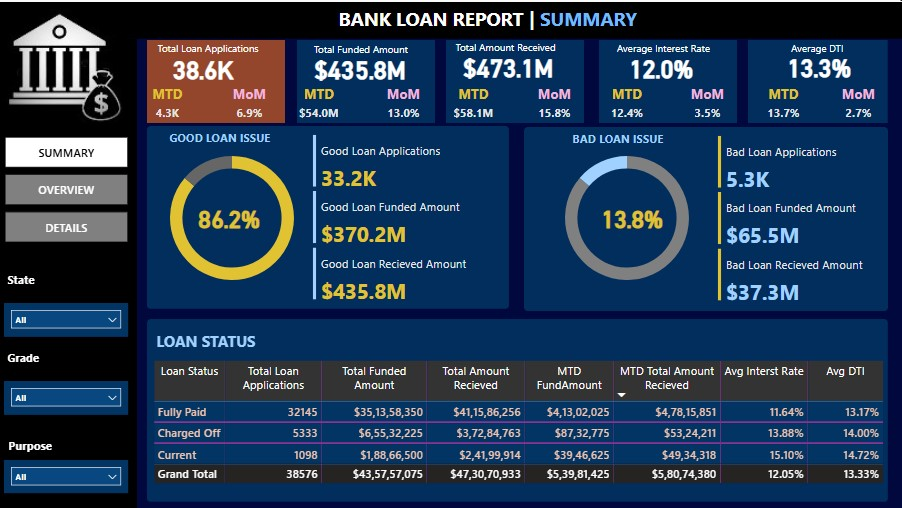

The page's visual inventory and layout, read from the dashboard file:
{"tool":"powerbi","page":{"name":"SUMMARY","canvas":[1280,720],"ordinal":0},"visuals":[{"type":"shape","box":[0,2.8,1279.8,52.4],"z":0},{"type":"shape","box":[0,52.4,195.6,667.6],"z":1000},{"type":"textbox","box":[476.2,0,459.2,48.2],"z":2000},{"type":"shape","box":[209.8,53.9,195.6,117.6],"z":3000},{"type":"card","fields":{"Values":["Bank_loan_data.Total Loan Applications"]},"box":[191.3,68,195.6,52.4],"z":4000},{"type":"textbox","box":[219.7,51,177.2,31.2],"z":5000},{"type":"card","title":"MTD","fields":{"Values":["Bank_loan_data.MTD Loan Applications"]},"box":[209.8,117.6,58.1,58.1],"z":6000},{"type":"card","title":"MoM","fields":{"Values":["Bank_loan_data.MoM Loan Applications"]},"box":[323.1,117.6,63.8,58.1],"z":7000},{"type":"shape","box":[422.4,53.9,195.6,117.6],"z":8000},{"type":"card","fields":{"Values":["Bank_loan_data.Total Funded Amount"]},"box":[413.9,68,195.6,52.4],"z":9000},{"type":"textbox","box":[429.4,52.4,180,29.8],"z":10000},{"type":"card","title":"MTD","fields":{"Values":["Bank_loan_data.MTD FundAmount"]},"box":[413.9,117.6,79.4,58.1],"z":11000},{"type":"card","title":"MoM","fields":{"Values":["Bank_loan_data.MoM Total Funded Amount"]},"box":[541.4,117.6,63.8,58.1],"z":12000},{"type":"shape","box":[633.5,52.4,195.6,117.6],"z":13000},{"type":"card","fields":{"Values":["Bank_loan_data.Total Amount Recieved"]},"box":[623.7,65.3,195.6,52.4],"z":14000},{"type":"textbox","box":[642.1,49.7,177.2,31.2],"z":15000},{"type":"card","title":"MTD","fields":{"Values":["Bank_loan_data.MTD Total Amount Recieved"]},"box":[639.2,117.6,66.6,58.1],"z":16000},{"type":"card","title":"MoM","fields":{"Values":["Bank_loan_data.MoM Total Amount Recieved"]},"box":[755.4,117.6,63.8,58.1],"z":17000},{"type":"shape","box":[1061.6,53.9,198.4,117.6],"z":18000},{"type":"card","fields":{"Values":["Bank_loan_data.Avg DTI"]},"box":[1064.4,65.2,195.6,52.4],"z":19000},{"type":"textbox","box":[1082.8,51,177.2,31.2],"z":20000},{"type":"card","title":"MTD","fields":{"Values":["Bank_loan_data.MTD Avg DTI"]},"box":[1082.8,117.6,58.1,58.1],"z":21000},{"type":"card","title":"MoM","fields":{"Values":["Bank_loan_data.MoM Avg DTI"]},"box":[1186.3,117.6,63.8,58.1],"z":22000},{"type":"shape","box":[850.4,53.9,195.6,117.6],"z":23000},{"type":"card","fields":{"Values":["Bank_loan_data.Avg Interst Rate"]},"box":[840.6,66.7,195.6,52.4],"z":24000},{"type":"textbox","box":[859,51.1,177.2,31.2],"z":25000},{"type":"card","title":"MTD","fields":{"Values":["Bank_loan_data.MTD Avg Int Rate"]},"box":[850.4,117.6,79.4,58.1],"z":26000},{"type":"card","title":"MoM","fields":{"Values":["Bank_loan_data.MoM Avg Int Rate"]},"box":[972.3,117.6,63.8,58.1],"z":27000},{"type":"shape","box":[209.8,175.7,513.1,259.4],"z":28000},{"type":"shape","box":[744.1,177.2,515.9,260.8],"z":29000},{"type":"donutChart","fields":{"Category":["Bank_loan_data.Good v/s Bad Loan"],"Y":["Bank_loan_data.Total Loan Applications"]},"box":[209.8,191.3,240.9,229.6],"z":30000},{"type":"card","fields":{"Values":["Bank_loan_data.Good Loan %"]},"box":[236.7,286.3,178.6,39.7],"z":31000},{"type":"shape","box":[209.8,449.3,1050.2,259.4],"z":32000},{"type":"textbox","box":[236.7,175.7,192.8,32.6],"z":33000},{"type":"cardVisual","fields":{"Data":["Bank_loan_data.Good Loan Applications","Bank_loan_data.Good Loan Funded Amount","Bank_loan_data.Good Loan Recieved Amount"]},"box":[439.4,182.8,266.5,245.2],"z":34000},{"type":"donutChart","fields":{"Category":["Bank_loan_data.Good v/s Bad Loan"],"Y":["Bank_loan_data.Total Loan Applications"]},"box":[765.4,191.3,249.4,229.6],"z":35000},{"type":"textbox","box":[807.9,177.2,178.6,32.6],"z":36000},{"type":"card","fields":{"Values":["Bank_loan_data.Bad Loan %"]},"box":[807.9,286.3,178.6,39.7],"z":37000},{"type":"cardVisual","fields":{"Data":["Bank_loan_data.Bad Loan Applications","Bank_loan_data.Bad Loan Funded Amount","Bank_loan_data.Bad Loan Recieved Amount"]},"box":[1013.4,184.3,266.5,245.2],"z":38000},{"type":"tableEx","fields":{"Values":["Bank_loan_data.loan_status","Bank_loan_data.Total Loan Applications","Bank_loan_data.Total Funded Amount","Bank_loan_data.Total Amount Recieved","Bank_loan_data.MTD FundAmount","Bank_loan_data.MTD Total Amount Recieved","Bank_loan_data.Avg Interst Rate","Bank_loan_data.Avg DTI"]},"box":[214,503.1,1046,192.8],"z":39000},{"type":"textbox","box":[218.3,460.6,232.4,42.5],"z":40000},{"type":"slicer","fields":{"Values":["Bank_loan_data.address_state"]},"box":[7.1,426.6,175.7,48.2],"z":41000},{"type":"textbox","box":[7.2,377.6,184.5,35.8],"z":42000},{"type":"slicer","fields":{"Values":["Bank_loan_data.grade"]},"box":[7.1,537.2,175.7,48.2],"z":43000},{"type":"textbox","box":[7.2,488,184.5,35.8],"z":44000},{"type":"textbox","box":[8.6,612.1,184.5,37.2],"z":45000},{"type":"slicer","fields":{"Values":["Bank_loan_data.purpose"]},"box":[7.1,649.1,175.7,46.8],"z":46000},{"type":"pageNavigator","box":[8.5,191.3,174.3,151.7],"z":47000},{"type":"image","box":[0,0,182.8,182.8],"z":48000}]}

Visuals, with their boxes in screenshot pixels (x1, y1, x2, y2), scaled from the page's 1280x720 canvas onto the 902x508 screenshot:
shape: 0 2 901 39
shape: 0 37 138 507
textbox: 336 0 659 34
shape: 148 38 286 121
card - Bank_loan_data.Total Loan Applications: 135 48 273 85
textbox: 155 36 280 58
"MTD" card: 148 83 189 124
"MoM" card: 228 83 273 124
shape: 298 38 435 121
card - Bank_loan_data.Total Funded Amount: 292 48 430 85
textbox: 303 37 429 58
"MTD" card: 292 83 348 124
"MoM" card: 382 83 426 124
shape: 446 37 584 120
card - Bank_loan_data.Total Amount Recieved: 440 46 577 83
textbox: 452 35 577 57
"MTD" card: 450 83 497 124
"MoM" card: 532 83 577 124
shape: 748 38 888 121
card - Bank_loan_data.Avg DTI: 750 46 888 83
textbox: 763 36 888 58
"MTD" card: 763 83 804 124
"MoM" card: 836 83 881 124
shape: 599 38 737 121
card - Bank_loan_data.Avg Interst Rate: 592 47 730 84
textbox: 605 36 730 58
"MTD" card: 599 83 655 124
"MoM" card: 685 83 730 124
shape: 148 124 509 307
shape: 524 125 888 309
donutChart - Bank_loan_data.Good v/s Bad Loan x Bank_loan_data.Total Loan Applications: 148 135 318 297
card - Bank_loan_data.Good Loan %: 167 202 293 230
shape: 148 317 888 500
textbox: 167 124 303 147
cardVisual - Bank_loan_data.Good Loan Applications x Bank_loan_data.Good Loan Funded Amount: 310 129 497 302
donutChart - Bank_loan_data.Good v/s Bad Loan x Bank_loan_data.Total Loan Applications: 539 135 715 297
textbox: 569 125 695 148
card - Bank_loan_data.Bad Loan %: 569 202 695 230
cardVisual - Bank_loan_data.Bad Loan Applications x Bank_loan_data.Bad Loan Funded Amount: 714 130 901 303
tableEx - Bank_loan_data.loan_status x Bank_loan_data.Total Loan Applications: 151 355 888 491
textbox: 154 325 318 355
slicer - Bank_loan_data.address_state: 5 301 129 335
textbox: 5 266 135 292
slicer - Bank_loan_data.grade: 5 379 129 413
textbox: 5 344 135 370
textbox: 6 432 136 458
slicer - Bank_loan_data.purpose: 5 458 129 491
pageNavigator: 6 135 129 242
image: 0 0 129 129
